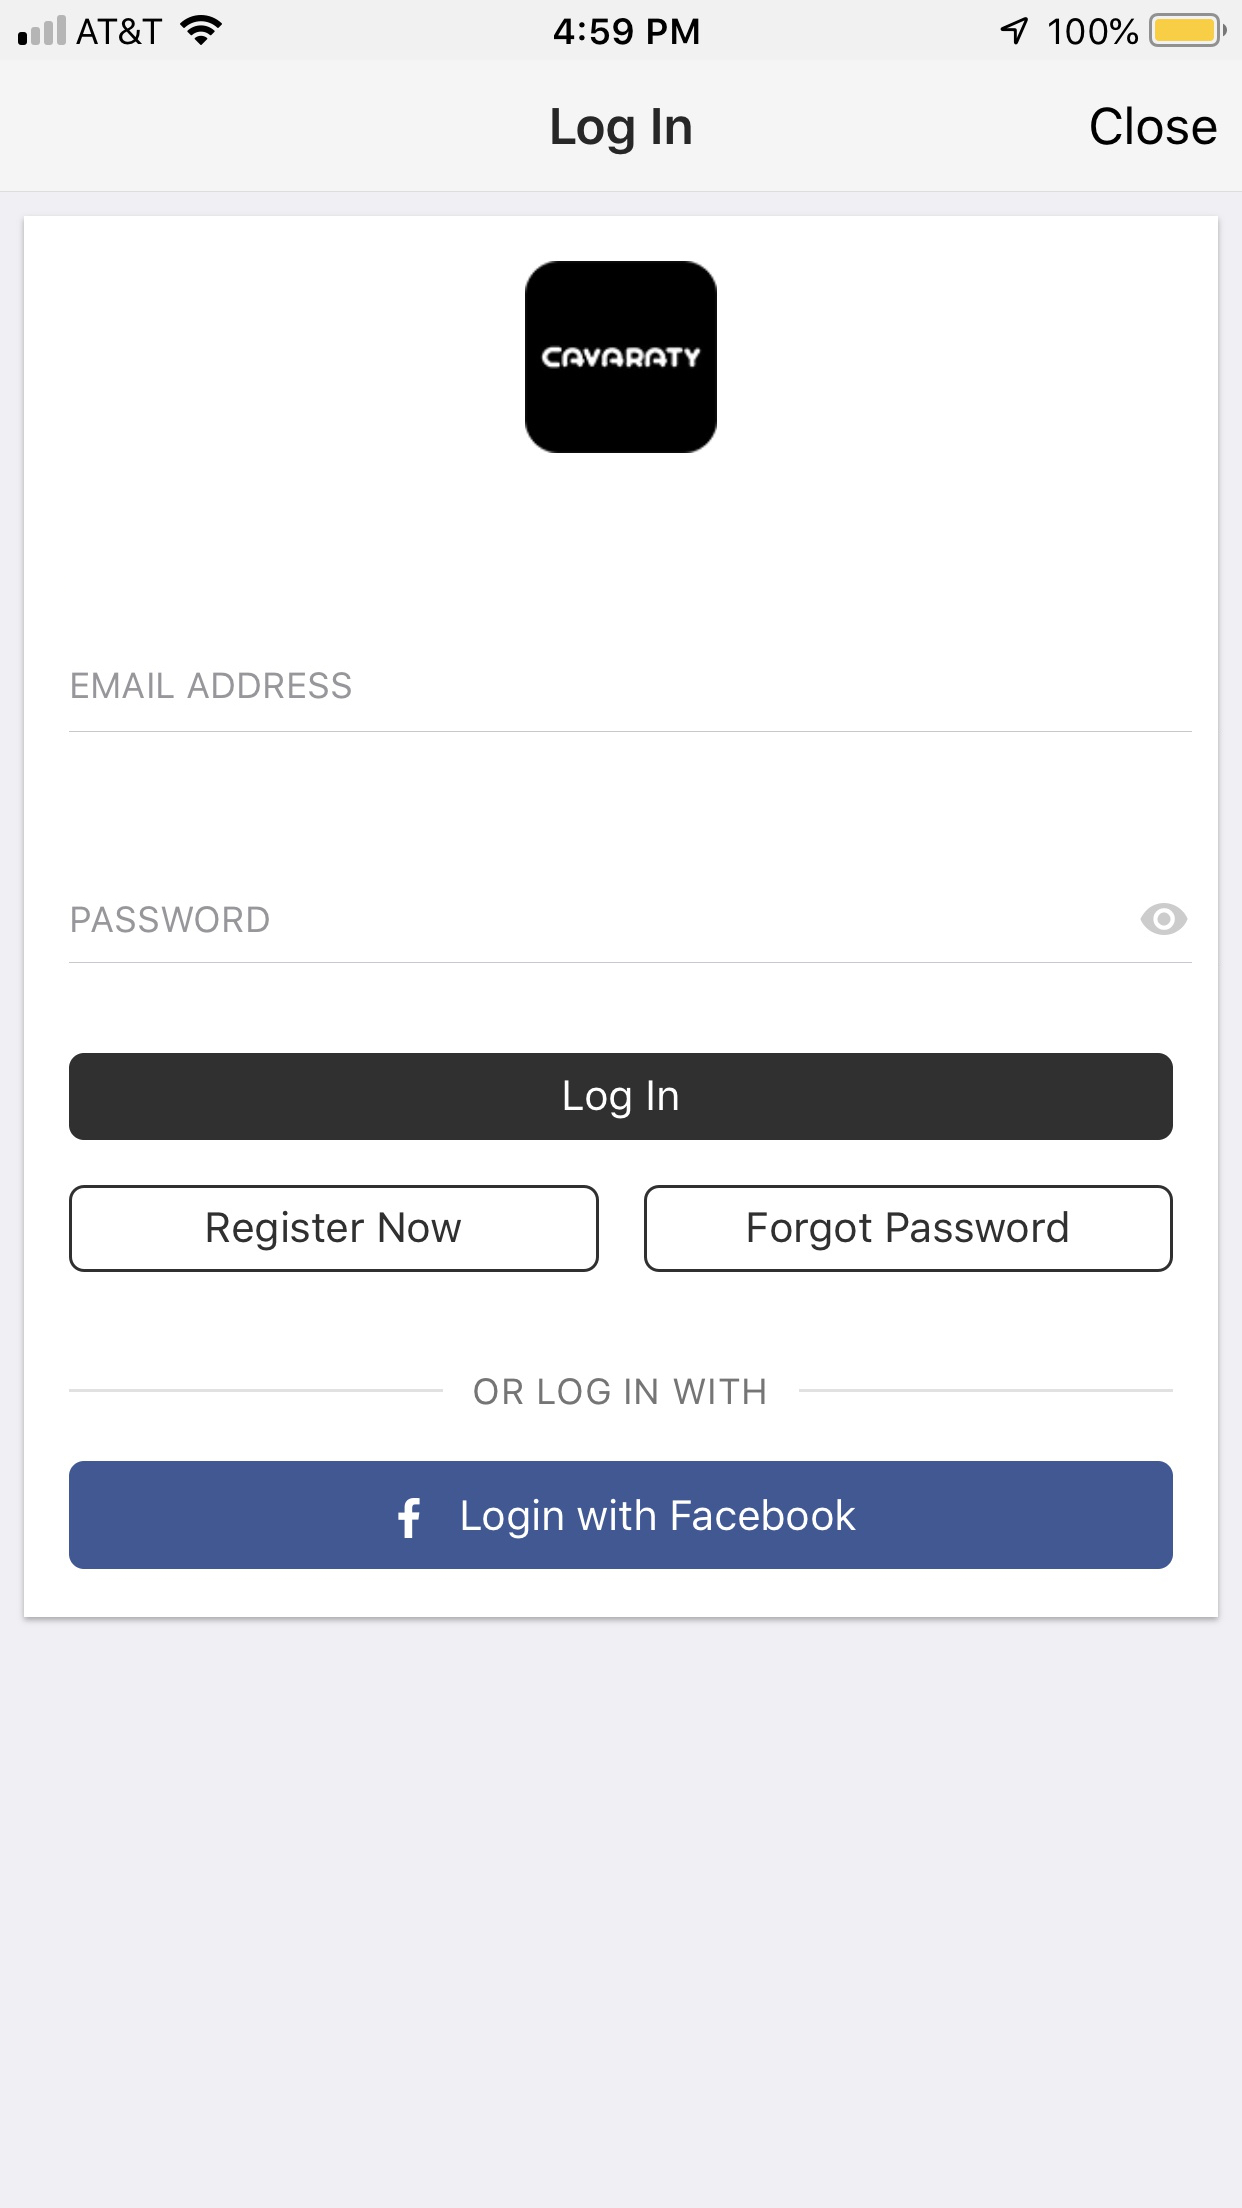EditText: (70, 670, 1193, 734), (70, 902, 1192, 964)
Icon: (1140, 902, 1187, 937)
Image: (525, 259, 717, 453)
Text: (71, 672, 352, 701), (475, 1378, 766, 1406), (550, 108, 692, 156), (71, 905, 271, 934), (1090, 106, 1218, 147)
TextButton: (70, 1460, 1174, 1570), (70, 1052, 1174, 1140), (645, 1184, 1174, 1274), (70, 1184, 601, 1272)
UpperTaskBar: (2, 2, 1242, 49)
